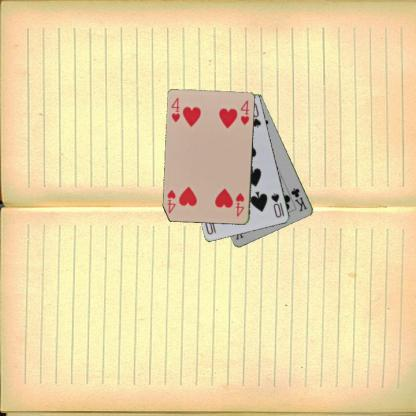10s: (268, 191, 286, 219)
4h: (169, 95, 181, 124), (234, 190, 245, 218)
Kc: (288, 186, 308, 213)
